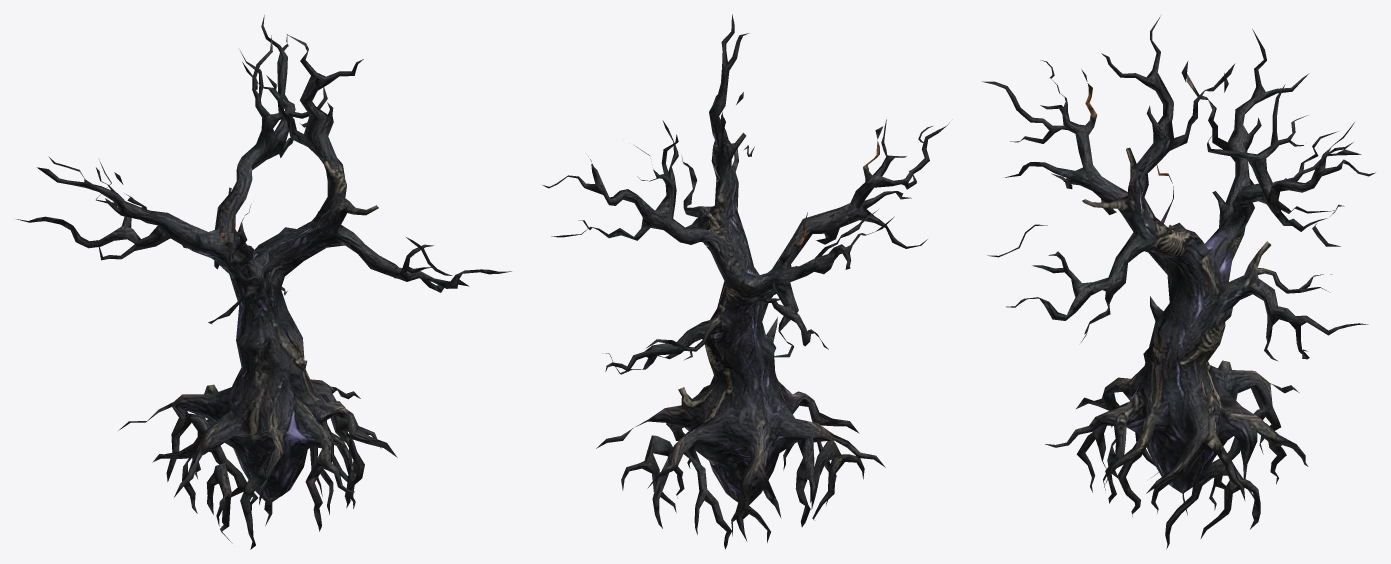
Rendered from dead_tree.glb.
3 views of the same model, side by side, from view 1: azimuth 30°, elevation 25°; view 2: azimuth 150°, elevation 25°; view 3: azimuth 270°, elevation 25° (orthographic). The views are drawn at different scales.
Parts seen in each view (by area): view 1: tripo_node_20bb1445-c473-4e97-ba6c-87be3e8c3bc1; view 2: tripo_node_20bb1445-c473-4e97-ba6c-87be3e8c3bc1; view 3: tripo_node_20bb1445-c473-4e97-ba6c-87be3e8c3bc1.
Boxes of the visible parts, x1,y1,x2,y2 form: tripo_node_20bb1445-c473-4e97-ba6c-87be3e8c3bc1: (16,15,511,549); tripo_node_20bb1445-c473-4e97-ba6c-87be3e8c3bc1: (542,14,949,549); tripo_node_20bb1445-c473-4e97-ba6c-87be3e8c3bc1: (982,16,1375,548).
Size of the model in its own units: 0.7129 by 0.998 by 0.7051.
1 material, 1 textured.
